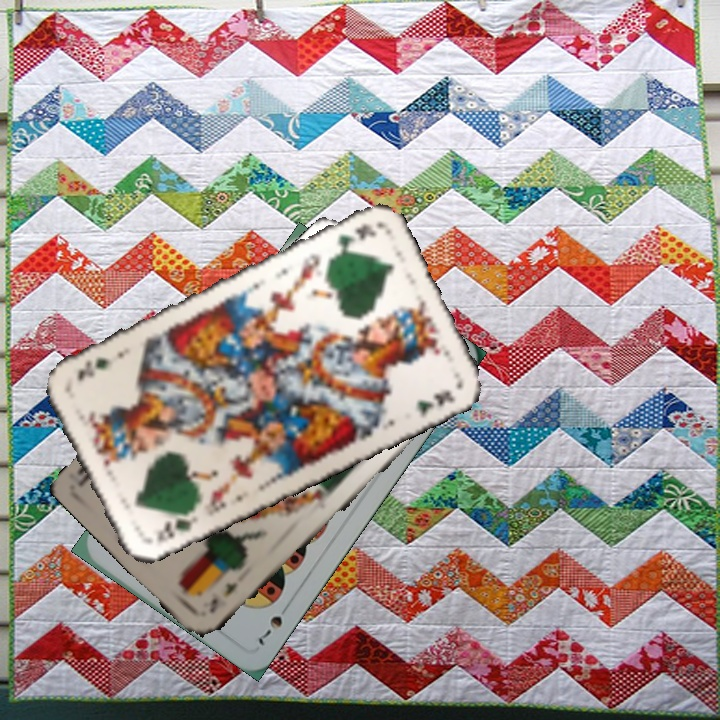EK: (205, 578, 241, 616)
GK: (328, 218, 379, 259), (151, 505, 200, 545)
S7: (254, 598, 293, 649)
